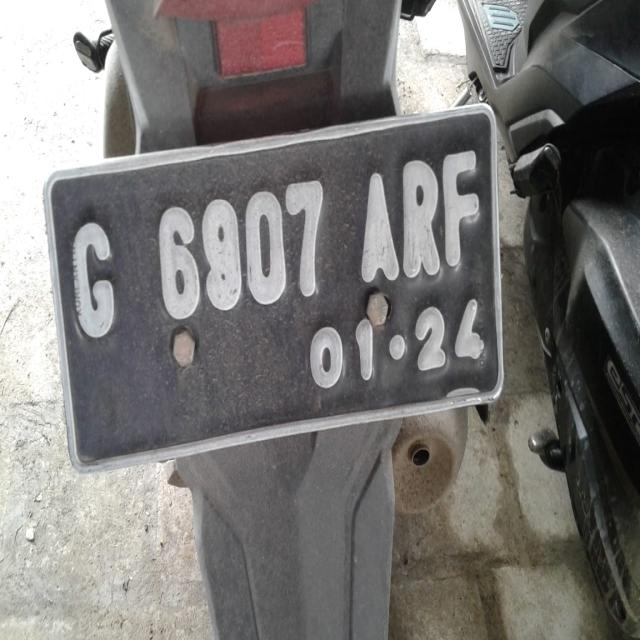plate: (40, 100, 506, 482)
